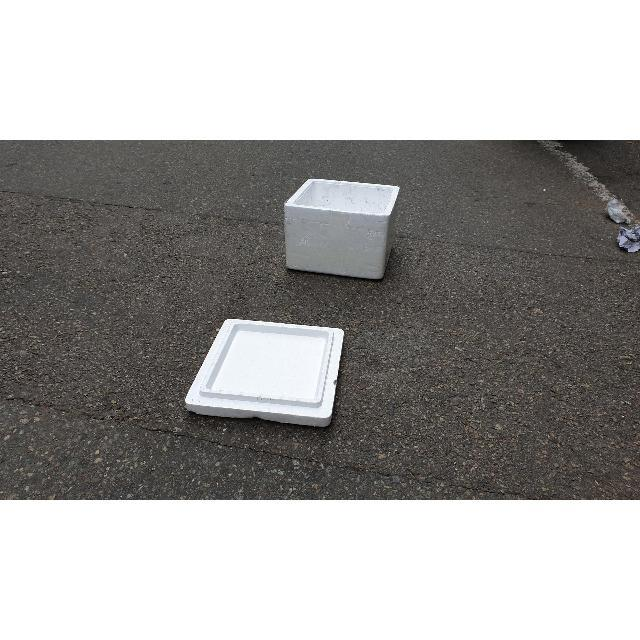Plastico descartable: (185, 319, 344, 430), (283, 179, 400, 281)
